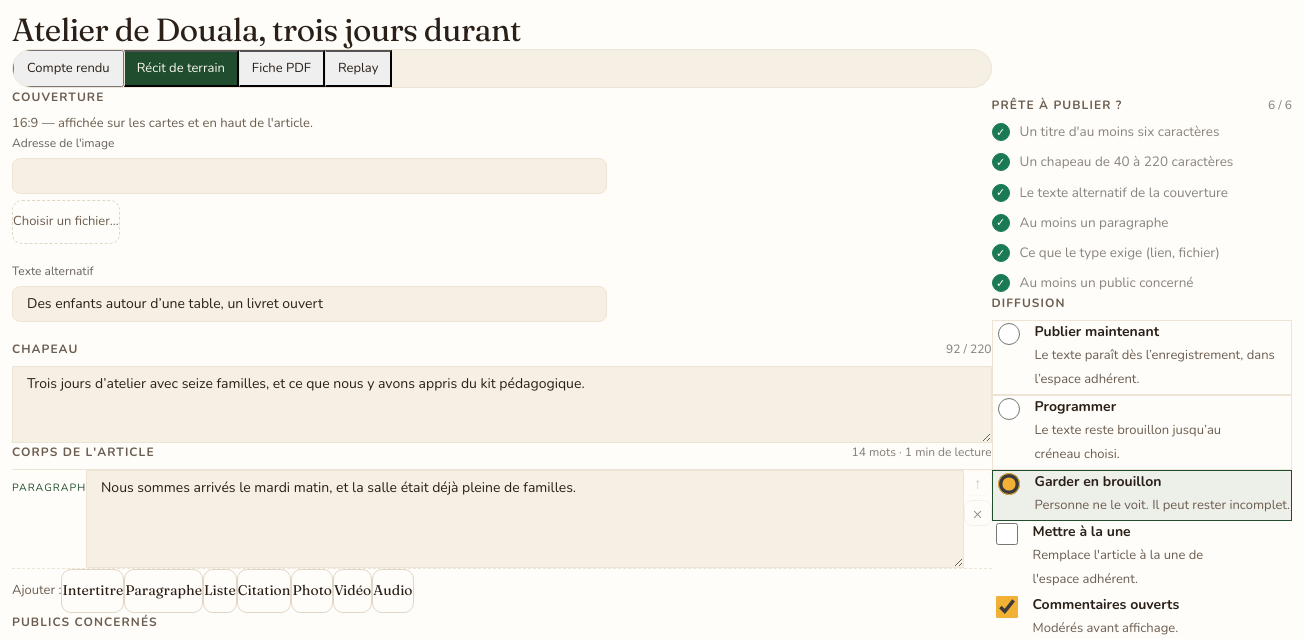
it: la diffusion — trois sorties, et la première n’existait pas › ne montre le CRÉNEAU que sous « programmer »
What coordinates should you click on to do the following:
click the radio button labelled "Programmer Le texte reste brouillon jusqu’au créneau choisi."
I would click on:
 (1009, 408)
Its box is [998,398,1020,420].
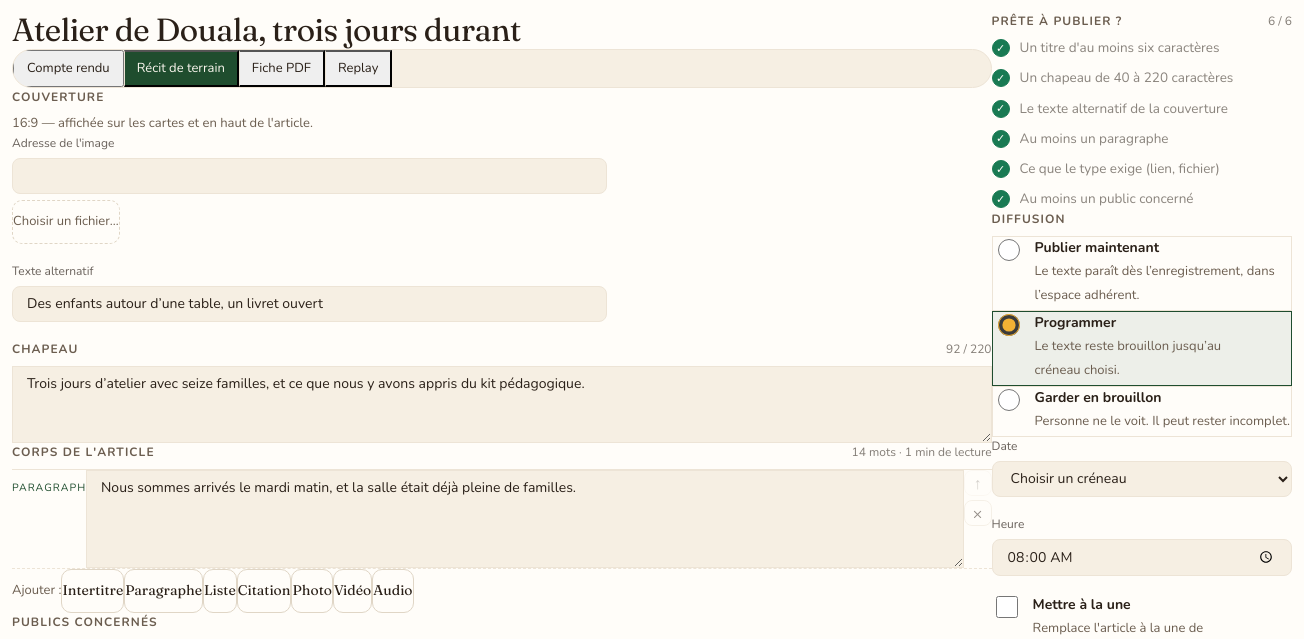
Expected: the dropdown named "programme_jour" is shown, [992,461,1292,497]
What coordinates should you click on to do the following:
click the radio button labelled "Publier maintenant"
I would click on:
 (1009, 250)
Its box is [998,239,1020,261].
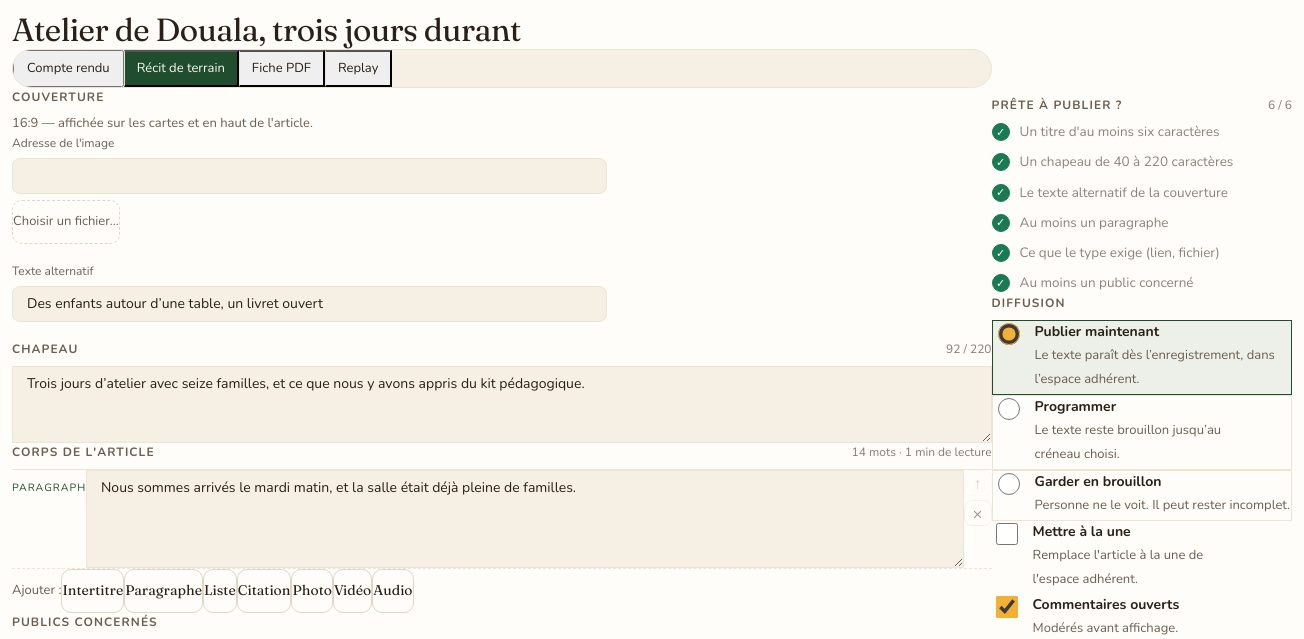
Expected: the dropdown named "programme_jour" is gone
